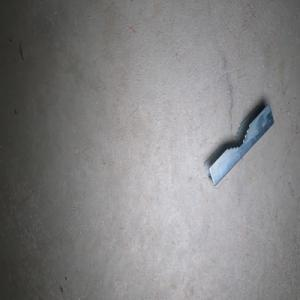ClampPart: (203, 103, 274, 187)
